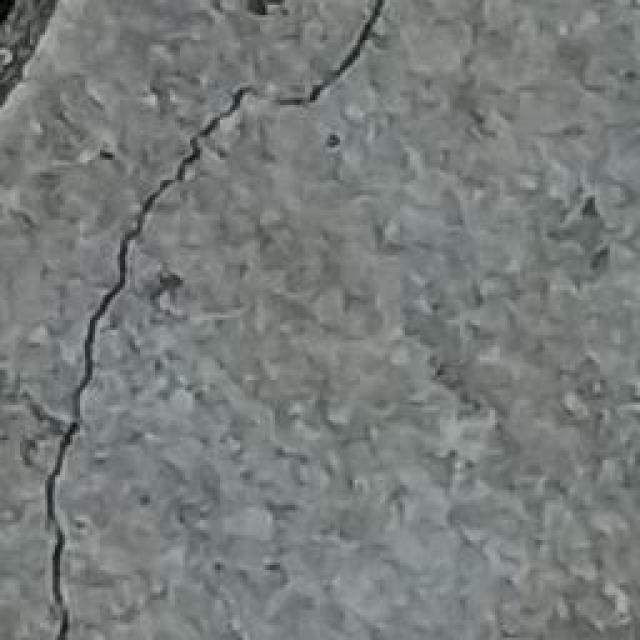Diagonal: (300, 0, 400, 110)
Longitudinal: (0, 0, 301, 640)
